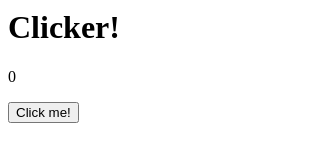
Test: Clicker component › Increments the display when the button is clicked
Expected: the text "0" is shown, 8,68 -> 16,85
Click the button: [43, 112] box 8,102 -> 79,123
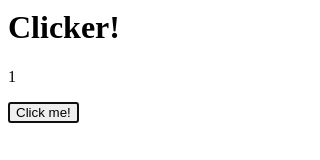
Expected: the text "1" is shown, 8,68 -> 16,85
